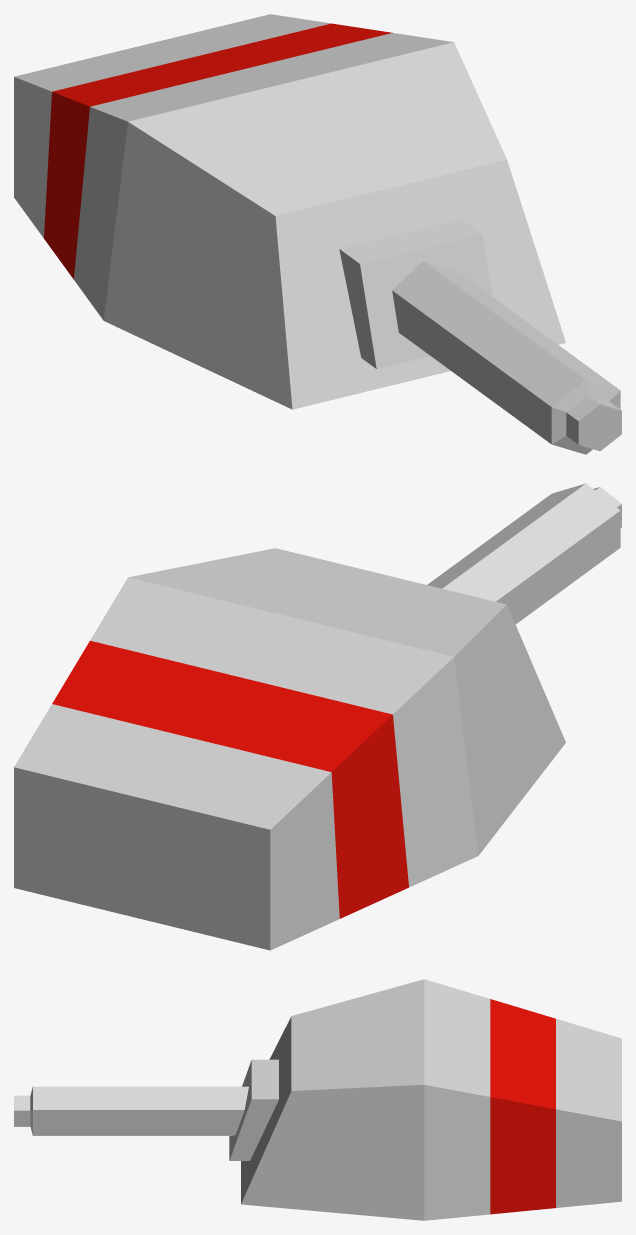
File: TurretMachinegunHeavy.fbx
The picture shows the model from 3 angles, top to bottom: view 1: azimuth 30°, elevation 25°; view 2: azimuth 150°, elevation 25°; view 3: azimuth 270°, elevation 25°; orthographic projection. The views are drawn at different scales.
Parts seen in each view (by area): view 1: TurretMachinegunHeavy; view 2: TurretMachinegunHeavy; view 3: TurretMachinegunHeavy.
Boxes of the visible parts, box(x1,y1,x2,y2) form: TurretMachinegunHeavy: box(14, 14, 621, 454); TurretMachinegunHeavy: box(14, 483, 621, 950); TurretMachinegunHeavy: box(14, 979, 621, 1220).
Size of the model in its own units: 23.45 by 11.55 by 49.66.
